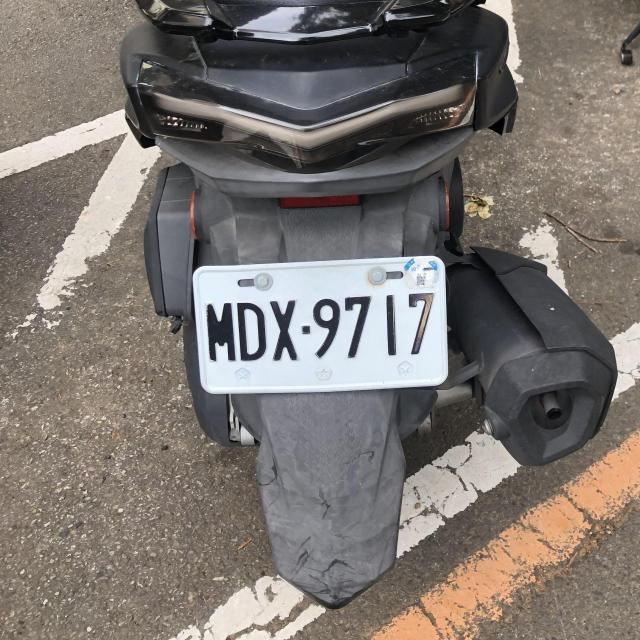W: (193, 257, 448, 393)
